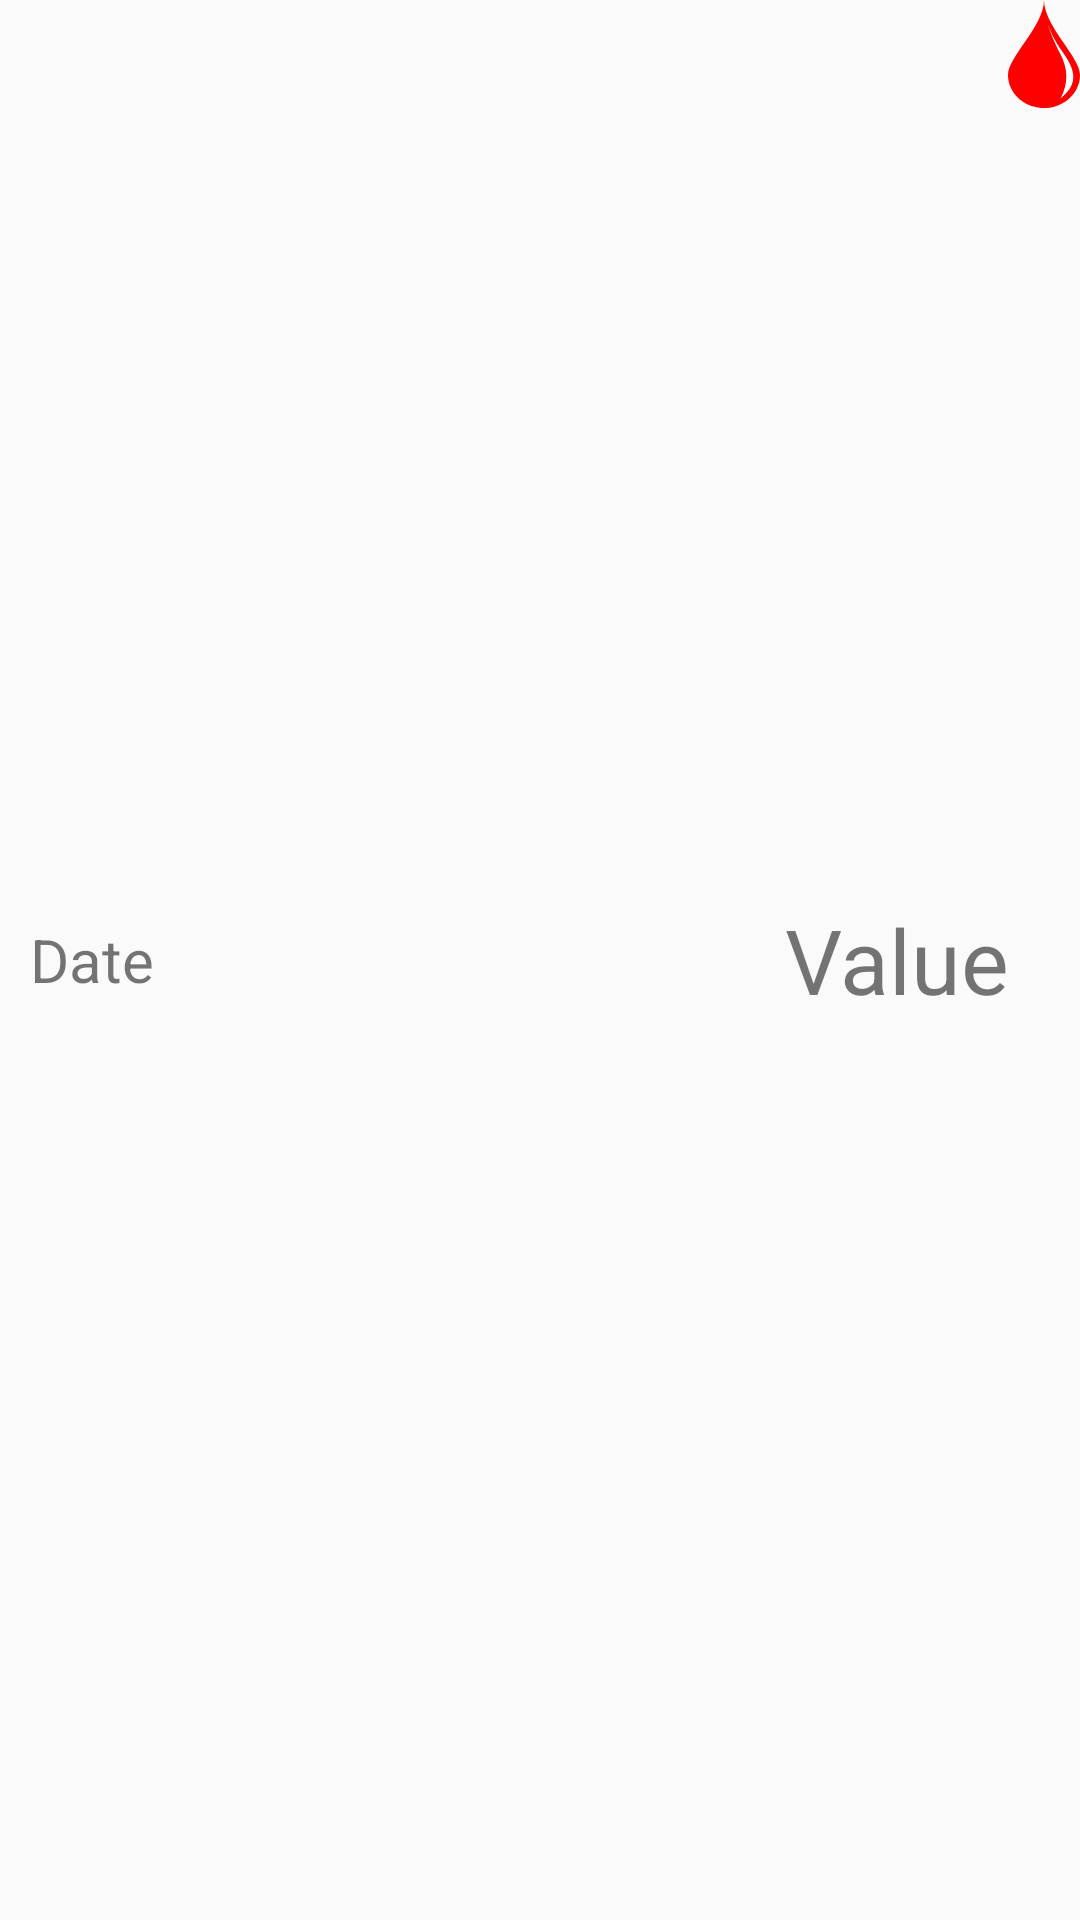

Icon bounding boxes for this 1080x1920 phone screenshot, format (x1, y1, x2, y2):
blood drop: (1008, 1, 1080, 108)
